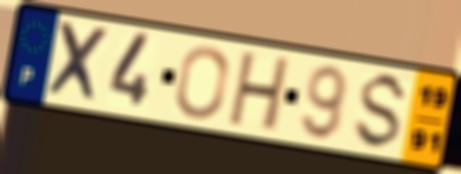4: (107, 29, 156, 115)
9: (298, 63, 351, 143)
H: (225, 50, 294, 135)
O: (173, 44, 231, 121)
S: (350, 71, 412, 152)
X: (43, 19, 112, 107)
